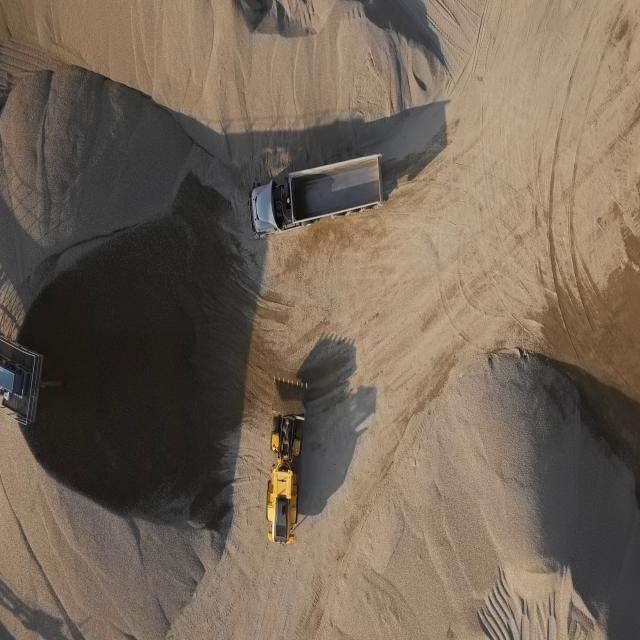vehicle: (249, 154, 382, 236), (266, 384, 306, 548)
